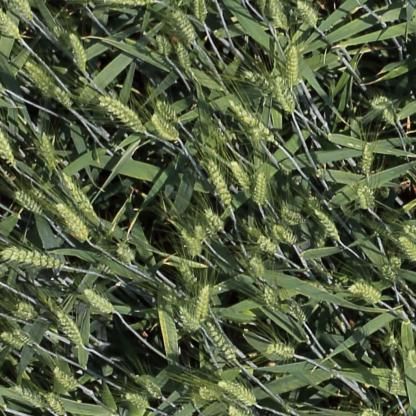whd: (0, 242, 66, 271), (95, 93, 144, 130), (60, 171, 96, 216), (204, 320, 239, 363), (56, 202, 90, 242), (206, 158, 233, 208), (53, 308, 84, 348), (313, 206, 344, 245), (244, 69, 282, 98), (241, 116, 281, 143), (28, 188, 62, 218), (274, 74, 297, 115), (172, 8, 198, 44), (219, 380, 257, 404), (229, 158, 253, 193), (150, 113, 180, 141), (0, 1, 21, 40), (25, 61, 53, 90), (84, 289, 115, 315), (349, 281, 382, 304), (69, 31, 87, 73), (14, 190, 43, 216), (12, 386, 46, 408), (177, 306, 202, 335), (39, 130, 57, 169), (296, 0, 320, 29), (0, 124, 16, 166), (269, 0, 290, 32), (196, 284, 212, 325), (180, 228, 201, 259), (287, 298, 309, 327), (177, 262, 200, 289), (51, 84, 74, 111), (263, 284, 283, 314), (156, 99, 180, 124), (174, 38, 192, 70), (228, 102, 252, 126), (264, 341, 296, 359), (44, 390, 66, 416), (52, 368, 78, 390), (142, 376, 164, 402), (398, 234, 416, 265), (358, 182, 375, 212), (273, 224, 297, 245), (288, 42, 299, 87), (155, 31, 172, 60), (14, 0, 35, 23), (256, 169, 268, 208), (116, 240, 135, 264), (281, 206, 304, 225), (381, 262, 399, 286), (250, 254, 266, 280), (380, 105, 398, 128), (0, 333, 24, 350), (362, 142, 373, 178), (125, 393, 149, 409), (104, 0, 152, 8), (204, 210, 223, 230), (13, 330, 35, 347), (256, 236, 278, 253), (391, 364, 401, 400), (195, 0, 207, 26), (390, 255, 402, 280), (370, 96, 393, 109), (199, 388, 222, 401), (16, 303, 36, 316), (400, 220, 416, 236), (406, 348, 416, 371), (385, 334, 399, 348), (258, 0, 268, 19), (194, 224, 206, 238), (96, 264, 111, 275)
